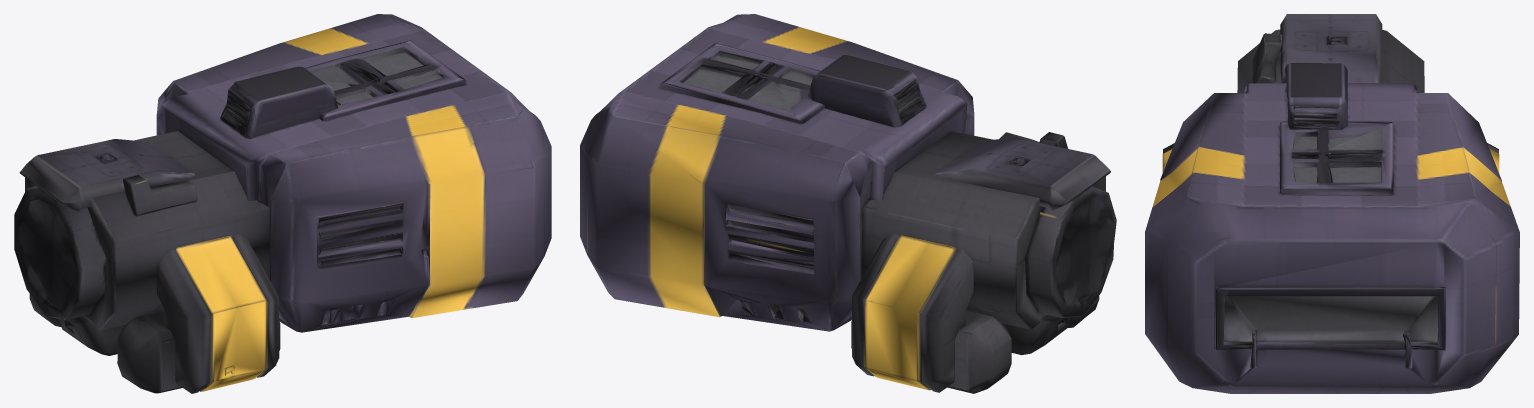
File: turret.glb
3 renders of one model, left to right at view 1: azimuth 30°, elevation 25°; view 2: azimuth 150°, elevation 25°; view 3: azimuth 270°, elevation 25°, orthographic. The views are drawn at different scales.
Parts seen in each view (by area): view 1: Turret_Pivot_Centered; view 2: Turret_Pivot_Centered; view 3: Turret_Pivot_Centered.
Boxes of the visible parts, <box> form: Turret_Pivot_Centered: <box>14,14,551,393</box>; Turret_Pivot_Centered: <box>580,14,1116,393</box>; Turret_Pivot_Centered: <box>1145,14,1519,393</box>.
Size of the model in its own units: 0.5552 by 0.271 by 0.3843.
1 material, 1 textured.
